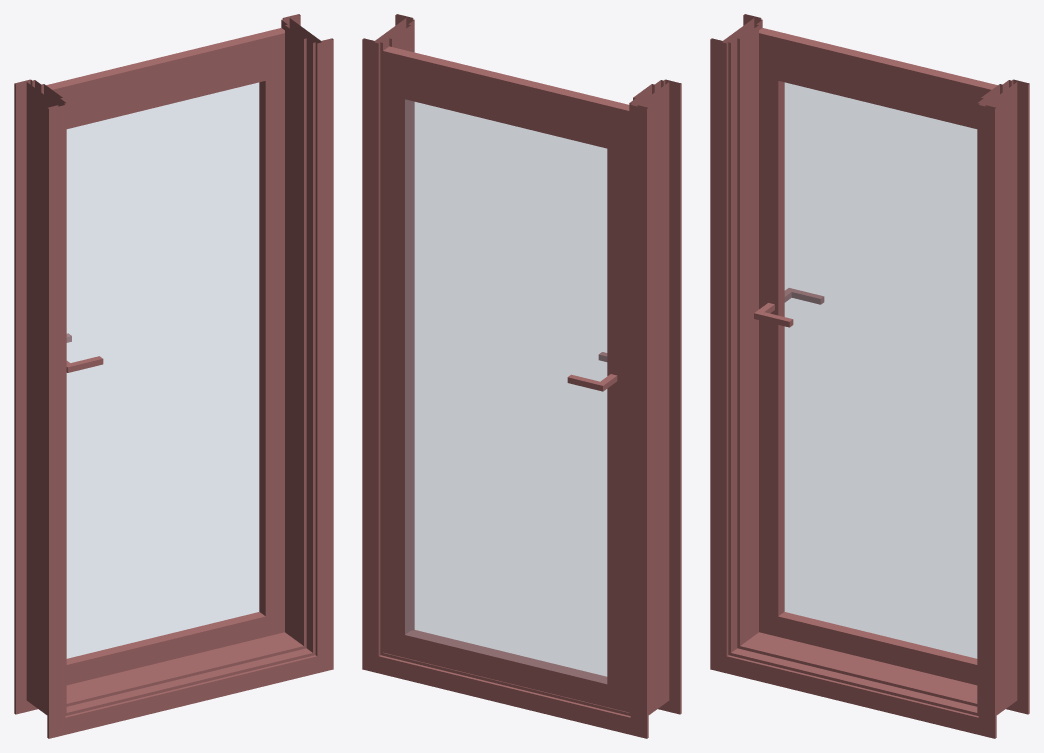
The model's file is door piv cor.fbx.
The picture shows the model from 3 angles, left to right: view 1: azimuth 30°, elevation 25°; view 2: azimuth 150°, elevation 25°; view 3: azimuth 330°, elevation 25°; orthographic projection.
Visible parts, largest first — view 1: Object_1479; view 2: Object_1479; view 3: Object_1479.
Part boxes in pixels (box(x1,y1,x2,y2)): Object_1479: box(14, 14, 333, 738); Object_1479: box(362, 14, 681, 738); Object_1479: box(710, 14, 1029, 738).
Bounding box in the file's own units: 104 × 220 × 30.
